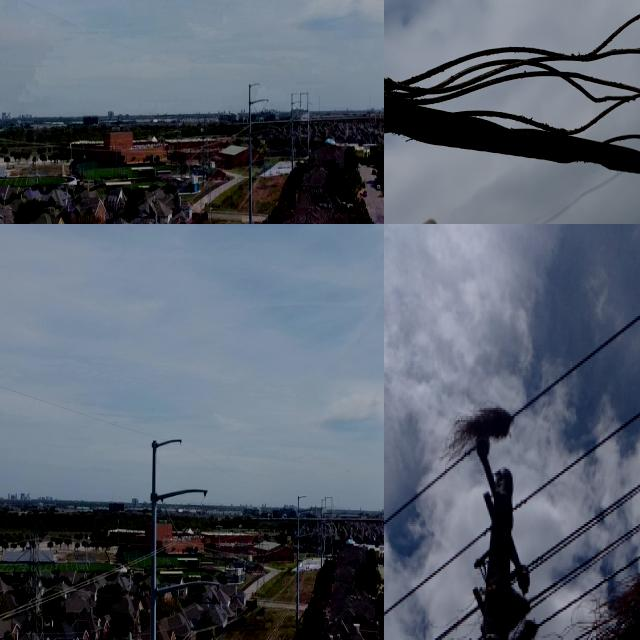杆塔: (10, 498, 63, 640)
植被遮挡: (446, 400, 518, 465)
正常绝缘子: (164, 506, 183, 543), (191, 601, 212, 634), (176, 595, 194, 632), (178, 510, 198, 540)
电缆破损: (384, 0, 640, 187)
